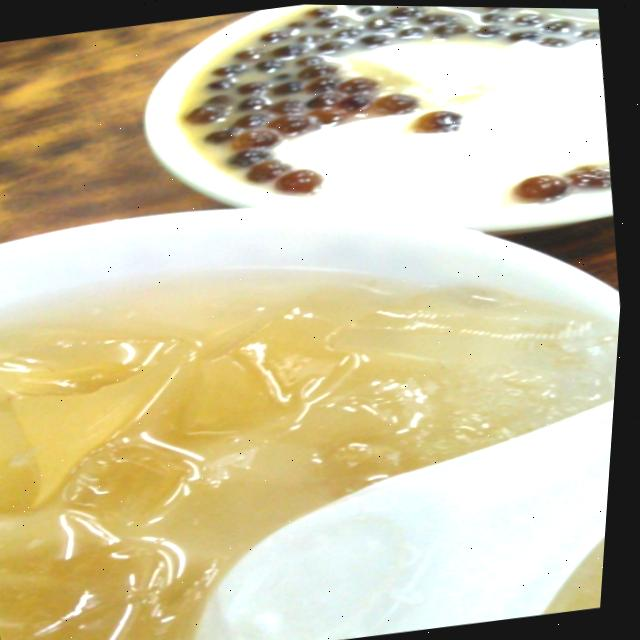蛋糕甜品: (0, 122, 634, 640)
